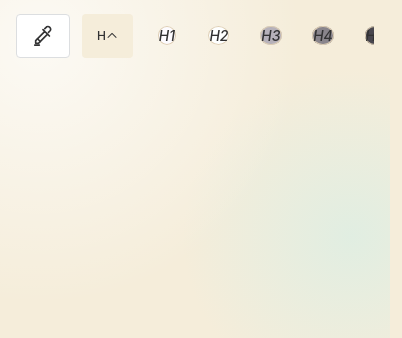
Scenario: palette interactions › toggles the sheet from the same family button
The image size is (402, 338).
Click the button "H": (107, 36) [82,14,133,58]
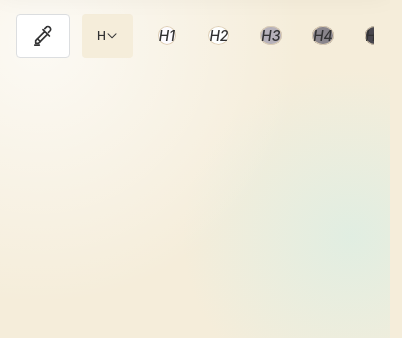
Check: the button "H" is expanded
Click the button "H": (107, 36) [82,14,133,58]
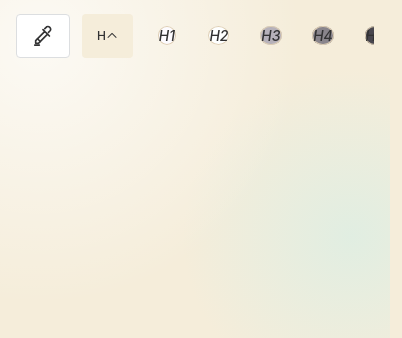
Check: the button "H" is collapsed, box [82,14,133,58]
